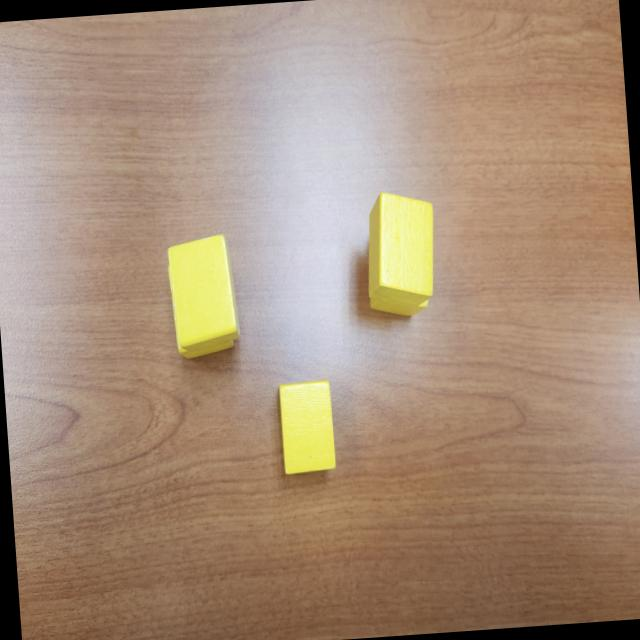yellow: (362, 190, 441, 310), (166, 233, 243, 349), (364, 230, 432, 322), (170, 269, 237, 361), (278, 379, 338, 474)
